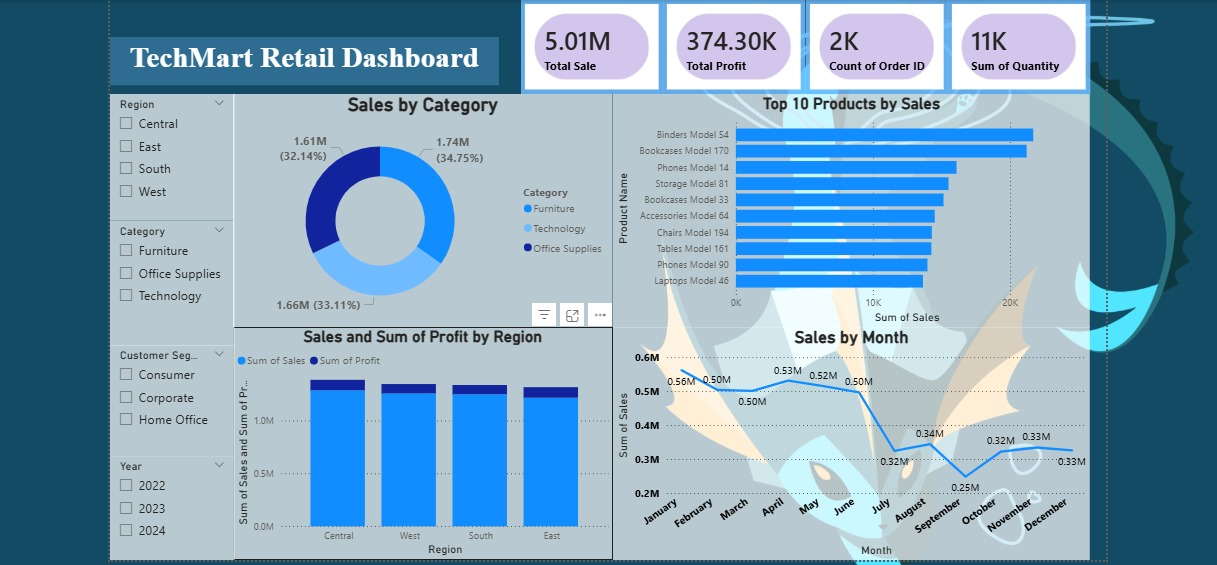

This screenshot's page, from the dashboard's own definition file:
{"tool":"powerbi","page":{"name":"Dashboard","canvas":[1280,720],"ordinal":6},"visuals":[{"type":"textbox","box":[0,47.5,499.7,61.9],"z":0},{"type":"cardVisual","fields":{"Data":["Measure.Total Sale"]},"box":[528.5,0,182.9,121],"z":1},{"type":"donutChart","title":"Sales by Category","fields":{"Category":["TechMart_Retail_Dataset_2000Rows.Category"],"Y":["Sum(TechMart_Retail_Dataset_2000Rows.Sales)"]},"box":[158.4,121,488.2,299.5],"z":5},{"type":"columnChart","title":"Sales and Sum of Profit by Region","fields":{"Category":["TechMart_Retail_Dataset_2000Rows.Region"],"Y":["Sum(TechMart_Retail_Dataset_2000Rows.Sales)","Sum(TechMart_Retail_Dataset_2000Rows.Profit)"]},"box":[158.4,420.5,488.2,299.5],"z":6},{"type":"slicer","fields":{"Values":["TechMart_Retail_Dataset_2000Rows.Region"]},"box":[0,121,159.8,162.7],"z":7},{"type":"slicer","fields":{"Values":["TechMart_Retail_Dataset_2000Rows.Category"]},"box":[0,283.7,159.8,159.8],"z":8},{"type":"slicer","fields":{"Values":["TechMart_Retail_Dataset_2000Rows.Customer Segment"]},"box":[0,443.5,159.8,142.6],"z":9},{"type":"slicer","fields":{"Values":["TechMart_Retail_Dataset_2000Rows.Order Date.Variation.Date Hierarchy.Year"]},"box":[0,586.1,159.8,133.9],"z":10},{"type":"cardVisual","fields":{"Data":["Measure.Total Profit"]},"box":[711.4,0,182.9,121],"z":11},{"type":"cardVisual","fields":{"Data":["CountNonNull(TechMart_Retail_Dataset_2000Rows.Order ID)"]},"box":[894.2,0,182.9,121],"z":12},{"type":"clusteredBarChart","title":"Top 10 Products by Sales","fields":{"Category":["TechMart_Retail_Dataset_2000Rows.Product Name"],"Y":["Sum(TechMart_Retail_Dataset_2000Rows.Sales)"]},"box":[646.6,121,613.4,299.5],"z":13},{"type":"lineChart","title":"Sales by Month","fields":{"Y":["Sum(TechMart_Retail_Dataset_2000Rows.Sales)"],"Category":["TechMart_Retail_Dataset_2000Rows.Order Date.Variation.Date Hierarchy.Year","TechMart_Retail_Dataset_2000Rows.Order Date.Variation.Date Hierarchy.Quarter","TechMart_Retail_Dataset_2000Rows.Order Date.Variation.Date Hierarchy.Month","TechMart_Retail_Dataset_2000Rows.Order Date.Variation.Date Hierarchy.Day"]},"box":[646.6,420.5,613.4,299.5],"z":14},{"type":"cardVisual","fields":{"Data":["Sum(TechMart_Retail_Dataset_2000Rows.Quantity)"]},"box":[1077.1,0,182.9,121],"z":15}]}

Visuals, with their boxes on the page's 1280x720 design canvas (x1, y1, x2, y2). These are canvas units, not pixel positions in the 1217x565 screenshot, which may show the page scaled, cropped or inside an application window:
textbox: bbox(0, 48, 500, 109)
cardVisual - Measure.Total Sale: bbox(528, 0, 711, 121)
"Sales by Category" donutChart: bbox(158, 121, 647, 420)
"Sales and Sum of Profit by Region" columnChart: bbox(158, 420, 647, 720)
slicer - TechMart_Retail_Dataset_2000Rows.Region: bbox(0, 121, 160, 284)
slicer - TechMart_Retail_Dataset_2000Rows.Category: bbox(0, 284, 160, 444)
slicer - TechMart_Retail_Dataset_2000Rows.Customer Segment: bbox(0, 444, 160, 586)
slicer - TechMart_Retail_Dataset_2000Rows.Order Date.Variation.Date Hierarchy.Year: bbox(0, 586, 160, 720)
cardVisual - Measure.Total Profit: bbox(711, 0, 894, 121)
cardVisual - CountNonNull(TechMart_Retail_Dataset_2000Rows.Order ID): bbox(894, 0, 1077, 121)
"Top 10 Products by Sales" clusteredBarChart: bbox(647, 121, 1260, 420)
"Sales by Month" lineChart: bbox(647, 420, 1260, 720)
cardVisual - Sum(TechMart_Retail_Dataset_2000Rows.Quantity): bbox(1077, 0, 1260, 121)
